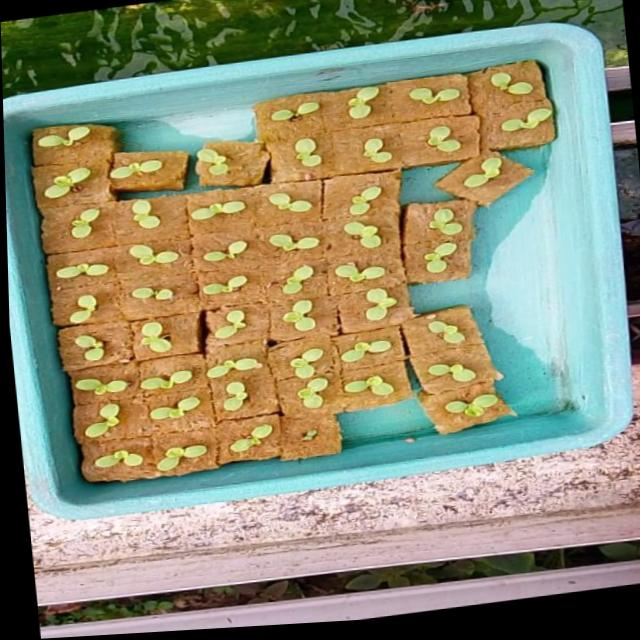Baby: (453, 153, 506, 196), (61, 201, 120, 238), (481, 67, 545, 99), (480, 98, 532, 132), (339, 254, 387, 285), (125, 285, 186, 309), (344, 220, 398, 247), (336, 336, 390, 362), (206, 308, 251, 339), (64, 334, 104, 368), (156, 443, 205, 470), (443, 389, 496, 413), (71, 377, 130, 398), (228, 422, 271, 450), (411, 85, 470, 105), (430, 200, 464, 234), (205, 356, 260, 377), (201, 238, 249, 261), (85, 403, 118, 436), (363, 285, 395, 319), (348, 86, 380, 119), (130, 243, 180, 264), (139, 369, 191, 389), (139, 321, 171, 353), (288, 346, 322, 376), (281, 298, 313, 329), (350, 183, 382, 214), (282, 263, 315, 293), (204, 273, 248, 294), (296, 374, 326, 404), (269, 232, 319, 250), (345, 376, 392, 395), (426, 359, 473, 378), (95, 448, 143, 466), (426, 317, 462, 341), (425, 126, 458, 152), (132, 199, 161, 227), (295, 137, 323, 166), (57, 262, 110, 277), (72, 294, 99, 323), (424, 248, 456, 271), (222, 380, 246, 410), (150, 401, 190, 418), (364, 137, 392, 161), (272, 192, 304, 211)
